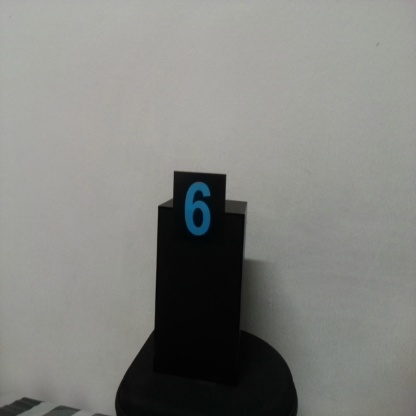id_6: (175, 172, 227, 253)
